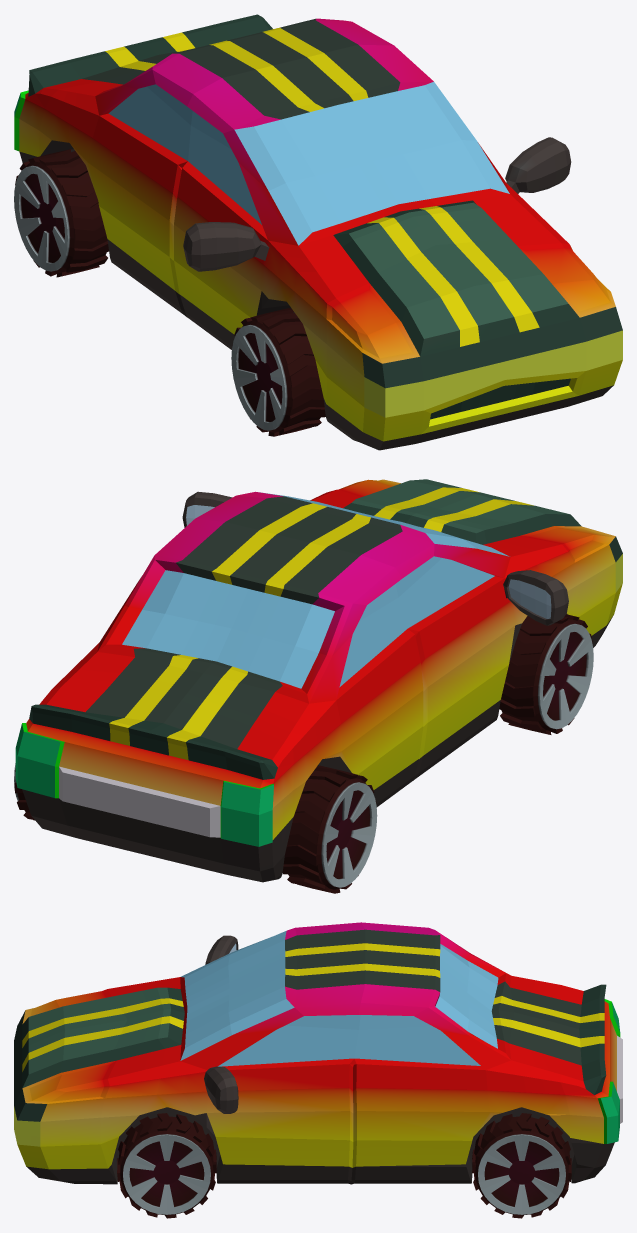
Rendered from машинка 5.fbx.
The picture shows the model from 3 angles, top to bottom: view 1: azimuth 30°, elevation 25°; view 2: azimuth 150°, elevation 25°; view 3: azimuth 270°, elevation 25°; orthographic projection. The views are drawn at different scales.
Visible parts, largest first — view 1: Car2.003, Cylinder.001, Cylinder, Zerk2.003; view 2: Car2.003, Cylinder.001, Cylinder, Zerk2.003; view 3: Car2.003, Cylinder.003, Cylinder.002, Zerk2.003.
Boxes of the visible parts, x1,y1,x2,y2 form: Car2.003: [14, 14, 622, 450]; Cylinder.001: [14, 149, 108, 277]; Cylinder: [231, 308, 325, 436]; Zerk2.003: [183, 137, 571, 271]; Car2.003: [15, 479, 622, 882]; Cylinder.001: [282, 765, 377, 893]; Cylinder: [499, 614, 593, 734]; Zerk2.003: [182, 491, 568, 625]; Car2.003: [14, 922, 622, 1184]; Cylinder.003: [117, 1113, 216, 1218]; Cylinder.002: [472, 1113, 571, 1218]; Zerk2.003: [204, 935, 238, 1113].
Size of the model in its own units: 355 by 218 by 601.
